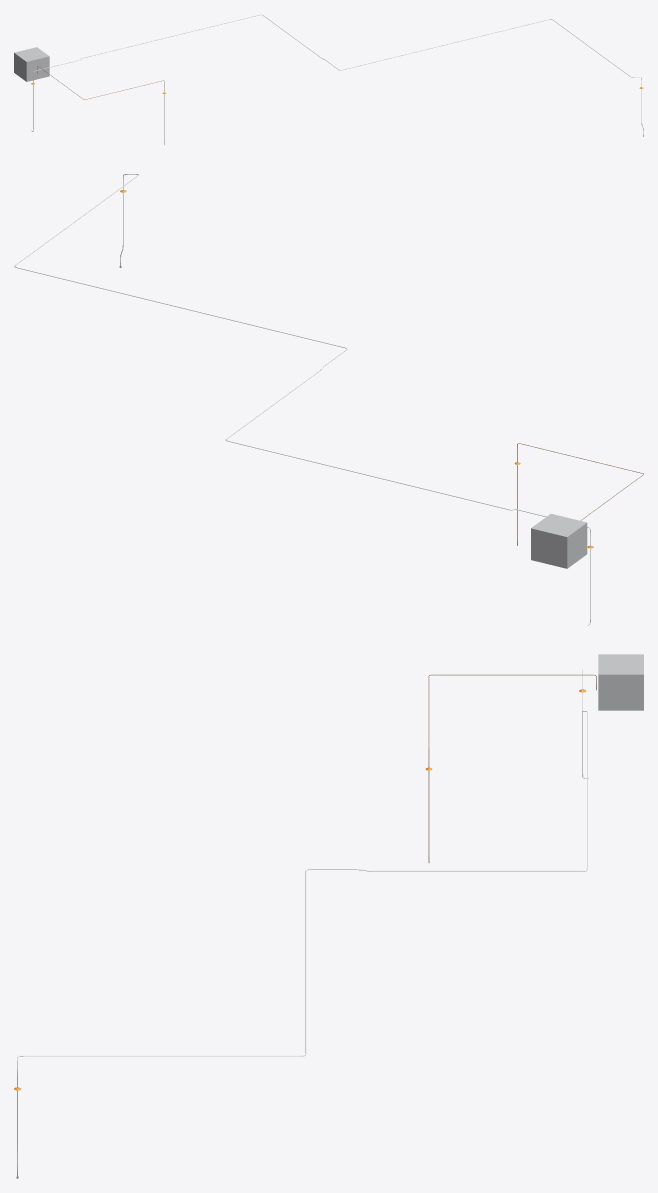
Rendered from slab_pipes_hvac__hvac-split_furnace+split_furnace_92+split_furnace_cond96+split_furnace_98.glb.
3 views of the same model, one above another, from view 1: azimuth 30°, elevation 25°; view 2: azimuth 150°, elevation 25°; view 3: azimuth 270°, elevation 25° (orthographic). The views are drawn at different scales.
Visible parts, largest first — view 1: duct_hvac_plenum_riser, cable_hvac_furnace_feed; view 2: duct_hvac_plenum_riser, cable_hvac_furnace_feed; view 3: duct_hvac_plenum_riser, cable_hvac_furnace_feed.
Boxes of the visible parts, x1=… form: duct_hvac_plenum_riser: x1=14, y1=47, x2=49, y2=81; cable_hvac_furnace_feed: x1=31, y1=14, x2=643, y2=134; duct_hvac_plenum_riser: x1=531, y1=513, x2=587, y2=568; cable_hvac_furnace_feed: x1=14, y1=174, x2=590, y2=625; duct_hvac_plenum_riser: x1=598, y1=654, x2=643, y2=710; cable_hvac_furnace_feed: x1=17, y1=669, x2=588, y2=1176.
Bounding box in the file's own units: 11.32 × 1.69 × 7.5.
